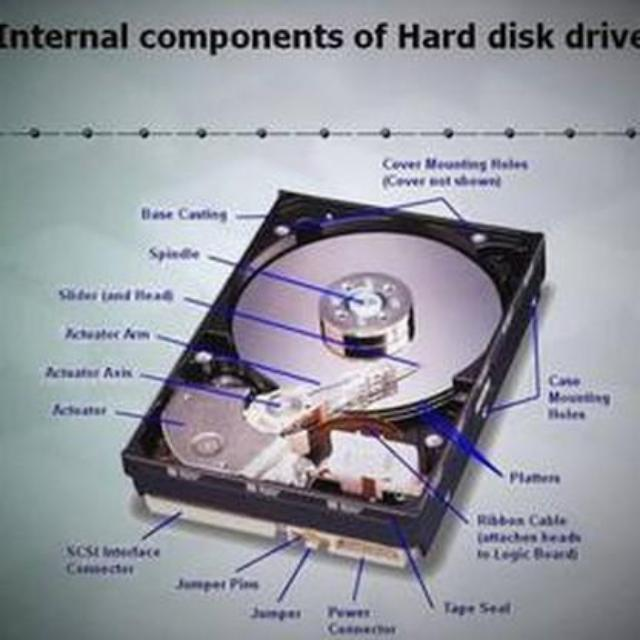DISK: (124, 183, 548, 557)
